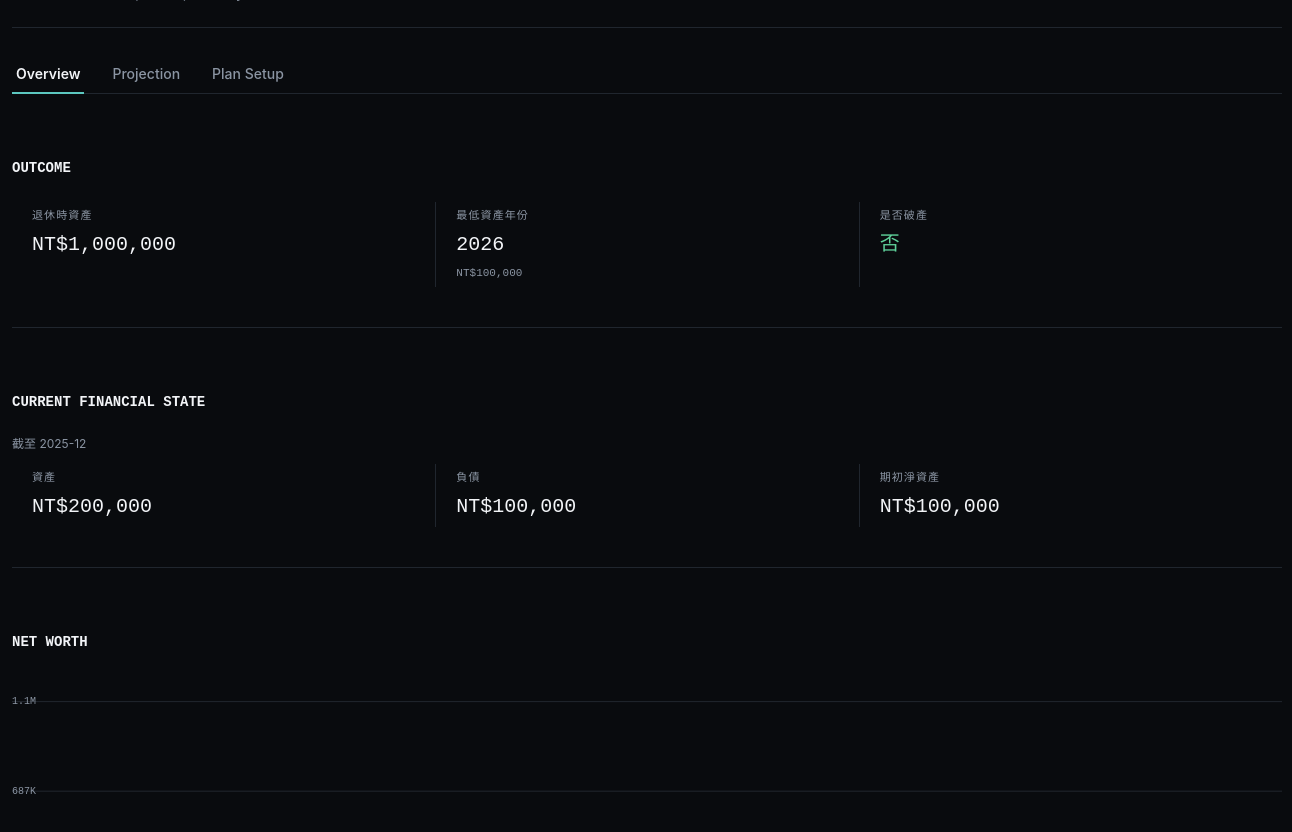
Test case: RetirementPlanForm - Scenario Workspace › keeps the assumptions and income inputs off the Overview tab until Plan Setup is opened
Press the mouse on the tab "Plan Setup" at (248, 77), box left=208, top=60, right=288, bottom=94
(page scrolled)
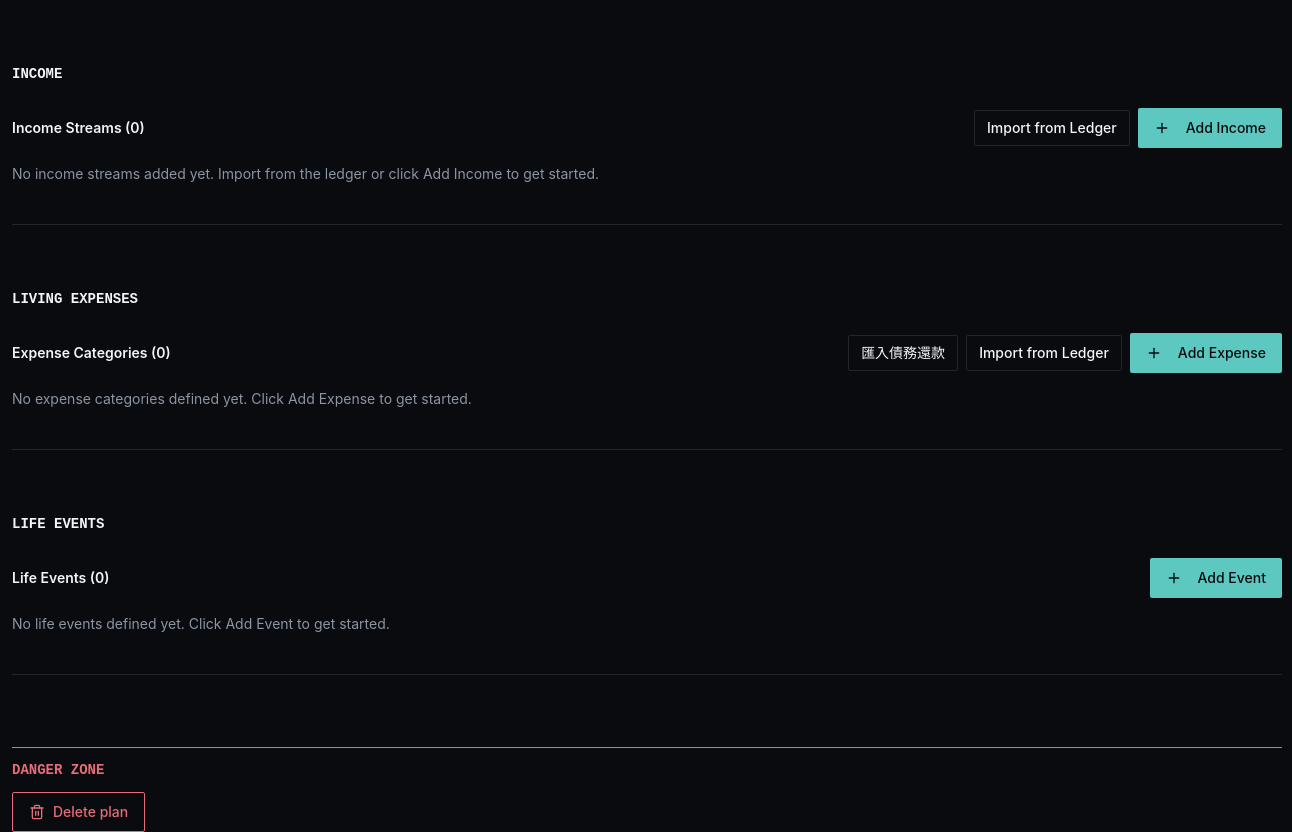
Expected: the text "LIVING EXPENSES" is shown, left=12, top=289, right=138, bottom=309
Expected: the text "LIFE EVENTS" is shown, left=12, top=514, right=104, bottom=534
